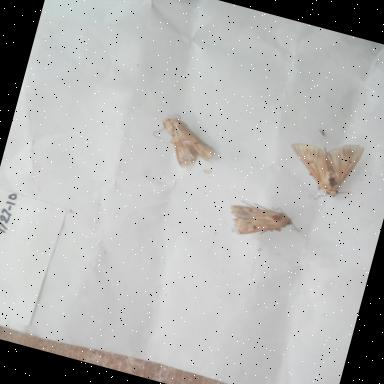abw: (276, 122, 374, 210), (140, 104, 230, 182), (214, 188, 314, 257)
